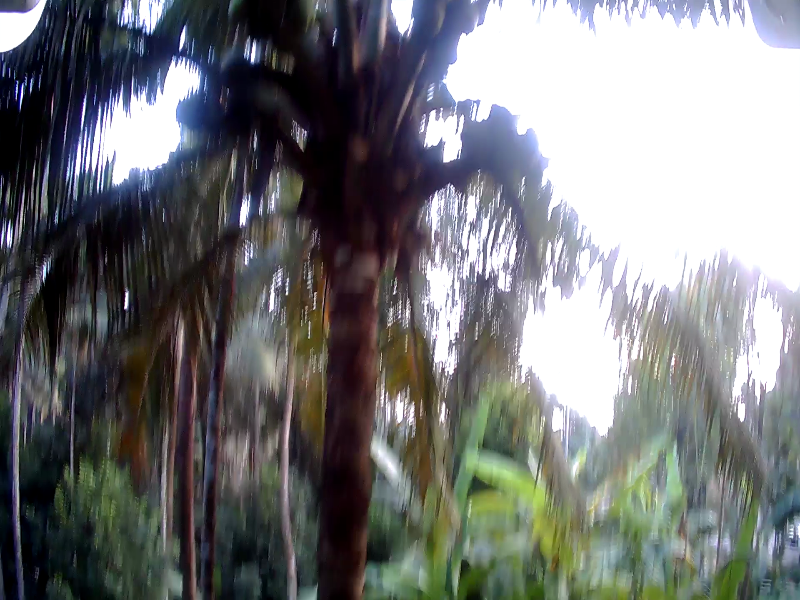coconut: (239, 1, 309, 36), (260, 87, 299, 132), (451, 5, 483, 35), (416, 2, 441, 39)
